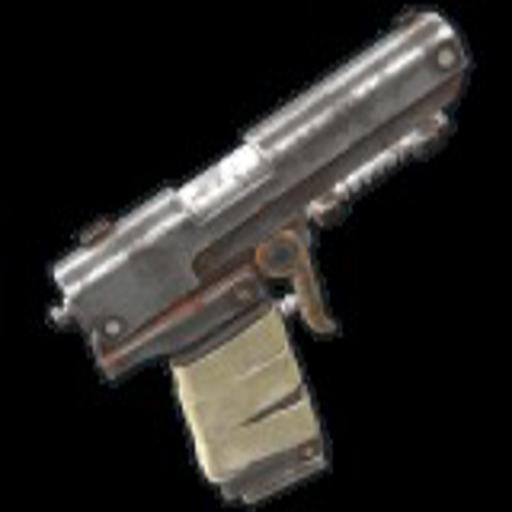Handgun: (43, 3, 469, 506)
